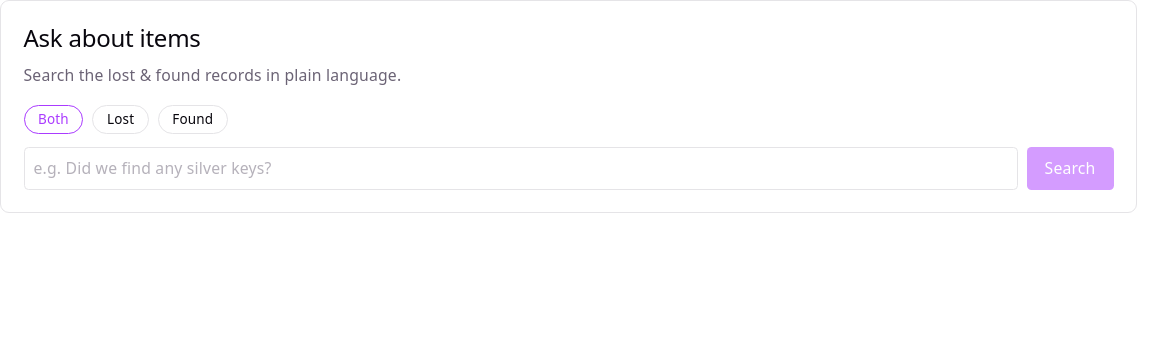
Test case: <ItemSearchPanel /> › hides result cards when the answer is ungrounded
Type "spaceship" into the field named "search query" at (521, 169), box top-left (24, 147), bottom-right (1018, 190)
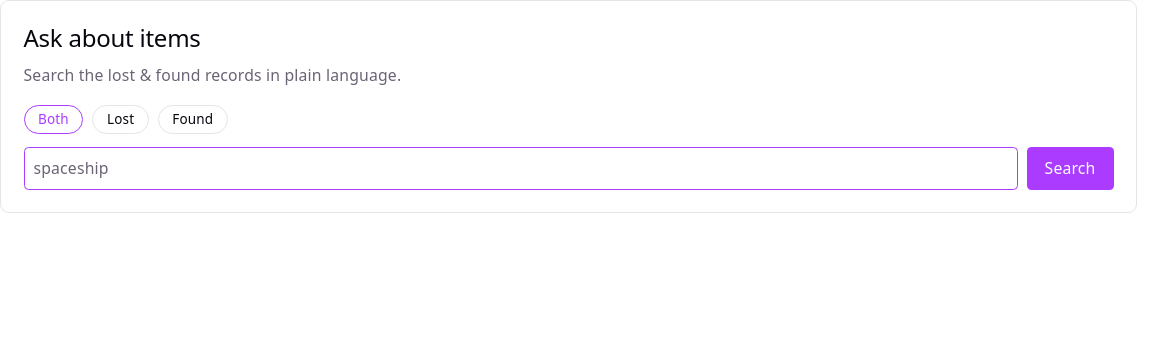
Click the button "Search" at (1070, 169), box top-left (1027, 147), bottom-right (1114, 190)
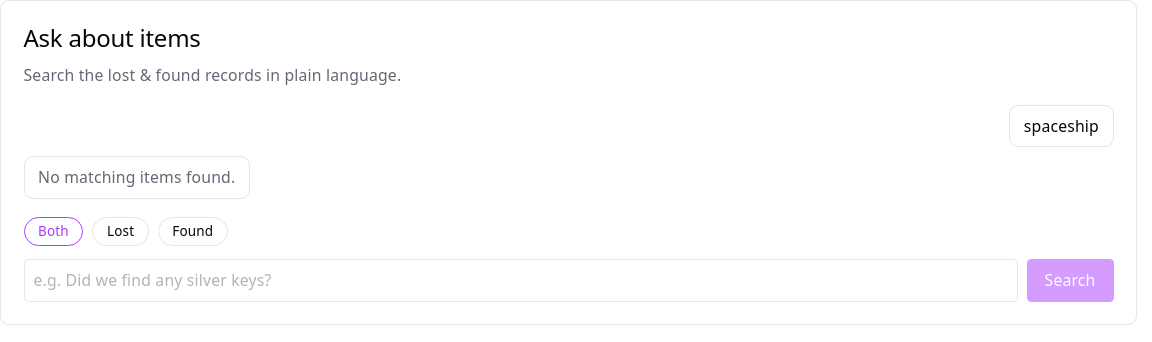
Check: the text "No matching items found." is shown, box top-left (38, 166), bottom-right (235, 189)
